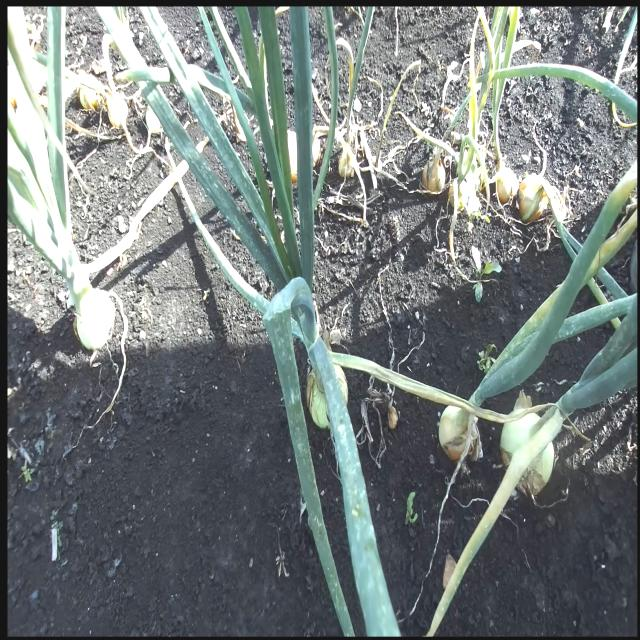onion: (500, 410, 555, 500), (306, 362, 349, 431), (438, 404, 482, 464), (517, 178, 547, 225), (495, 166, 519, 206), (422, 155, 446, 194)
